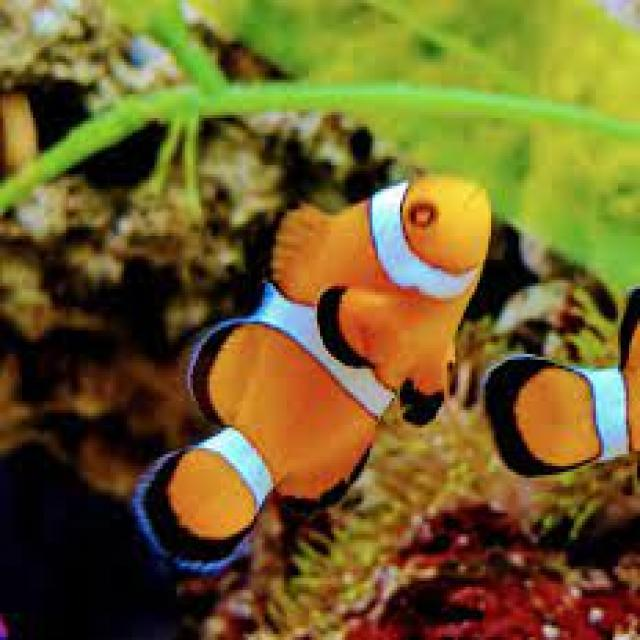ClownFish: (128, 178, 490, 568), (492, 292, 640, 476)
